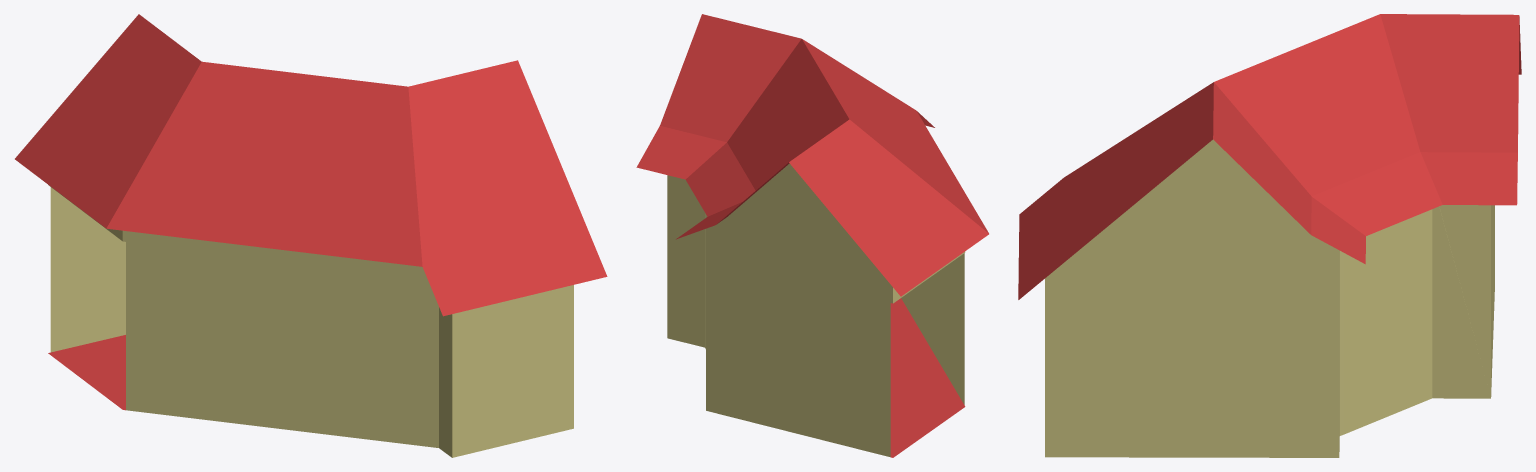
3 views of the same model, side by side, from view 1: azimuth 30°, elevation 25°; view 2: azimuth 150°, elevation 25°; view 3: azimuth 270°, elevation 25° (orthographic). The views are drawn at different scales.
Bounding box in the file's own units: 17.09 × 19.04 × 13.75.
